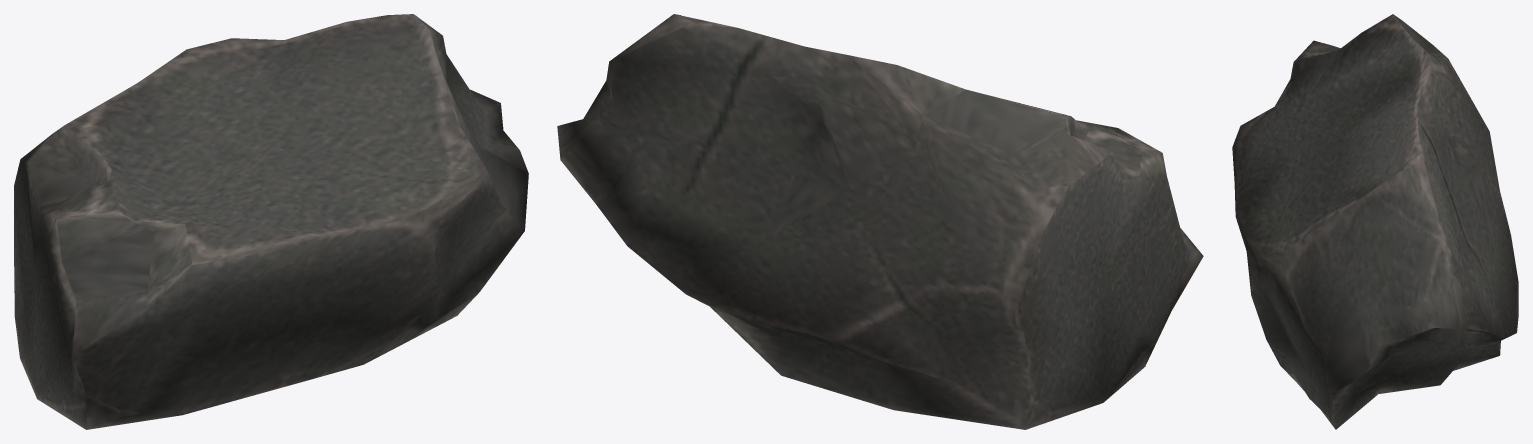
File: cliff_stone_wide.gltf
3 renders of one model, left to right at view 1: azimuth 30°, elevation 25°; view 2: azimuth 150°, elevation 25°; view 3: azimuth 270°, elevation 25°, orthographic. The views are drawn at different scales.
Parts seen in each view (by area): view 1: cliff_stone_wide; view 2: cliff_stone_wide; view 3: cliff_stone_wide.
Part boxes in pixels (x1=…): cliff_stone_wide: x1=14, y1=14, x2=528, y2=429; cliff_stone_wide: x1=557, y1=14, x2=1203, y2=429; cliff_stone_wide: x1=1232, y1=14, x2=1518, y2=429.
Size of the model in its own units: 2 by 1.08 by 1.
Materials: 1 (1 with a texture image).
